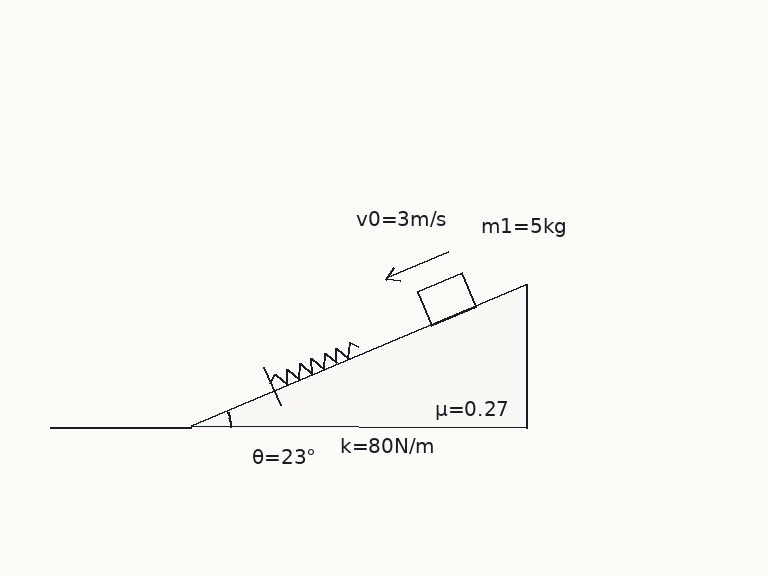block: (415, 271, 478, 327)
ramp: (189, 283, 528, 429)
spring: (269, 340, 360, 386)
